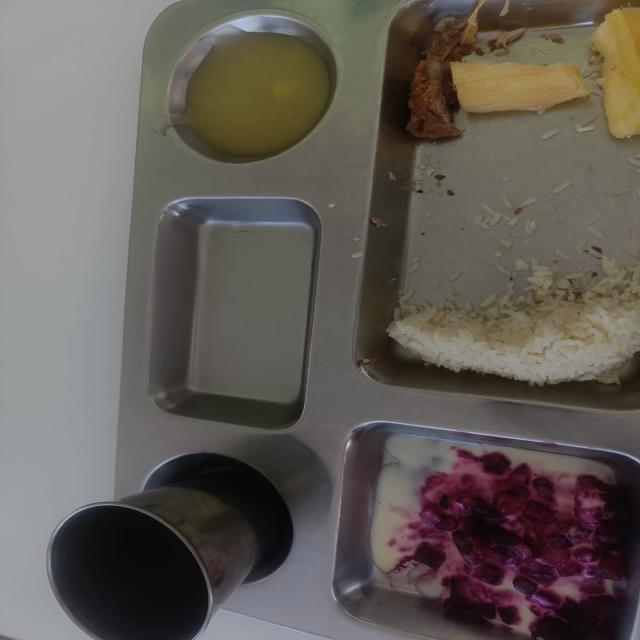arroz: (387, 257, 639, 385), (579, 274, 580, 277), (525, 264, 526, 267)
pescado frito: (406, 24, 470, 139)
yuca: (451, 62, 592, 113), (591, 8, 639, 138)
